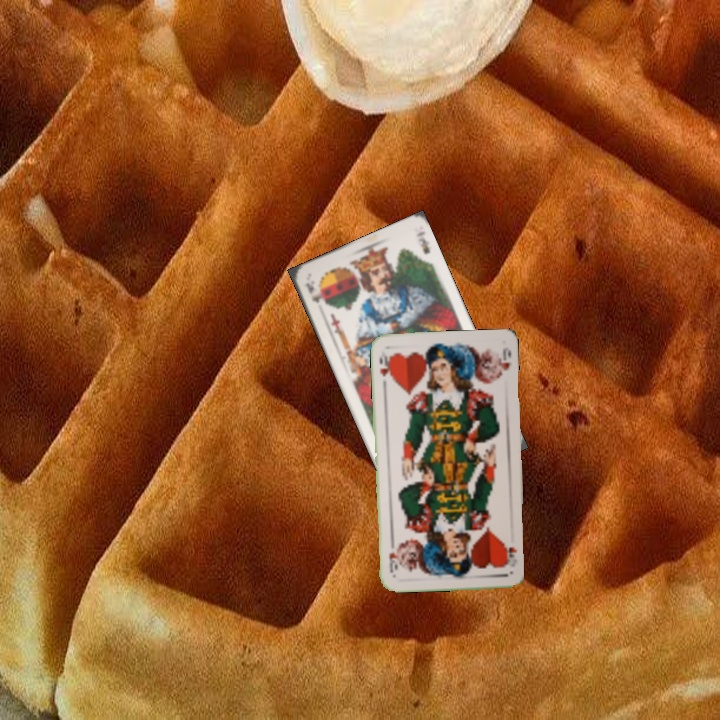HO: (375, 351, 394, 388), (500, 539, 520, 569)
SK: (301, 279, 328, 308)
